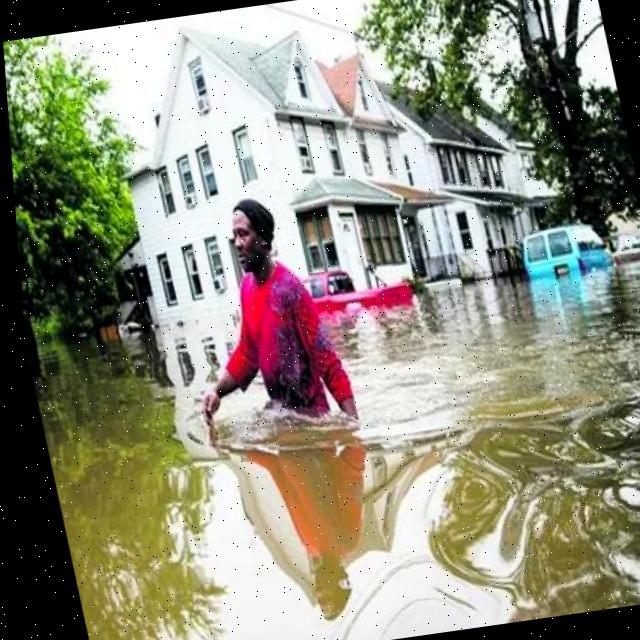civilian: (140, 170, 399, 491)
